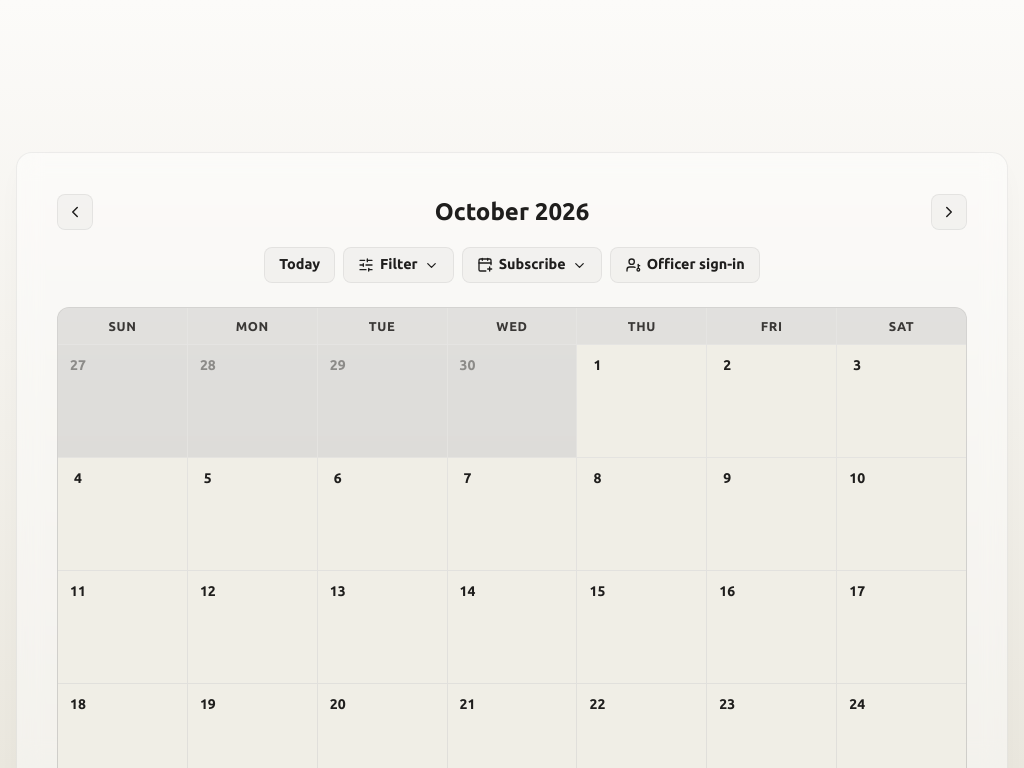
it: Calendar page › keeps the subscribe control inside the header so its panel can anchor there
Expected: the element with class "calendar-header" is shown, [57,193,967,283]
Click the button "Subscribe" at (532, 265), box [462,247,602,283]
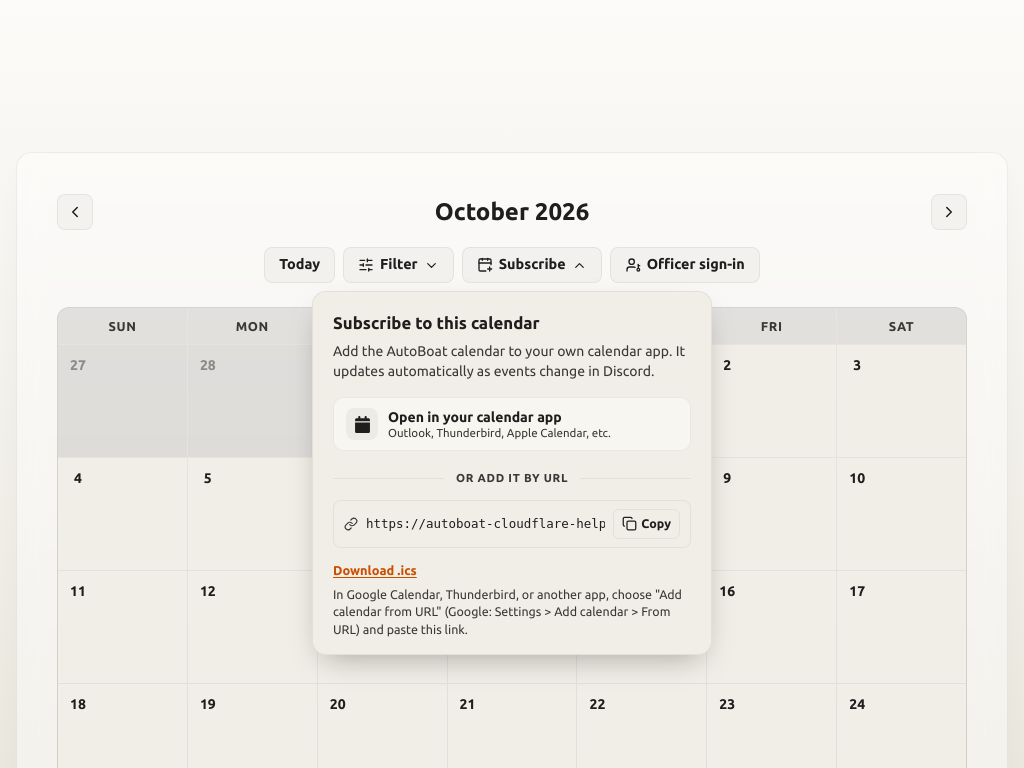
Expected: the element with class "calendar-subscribe__panel" is shown, [312,291,712,655]
